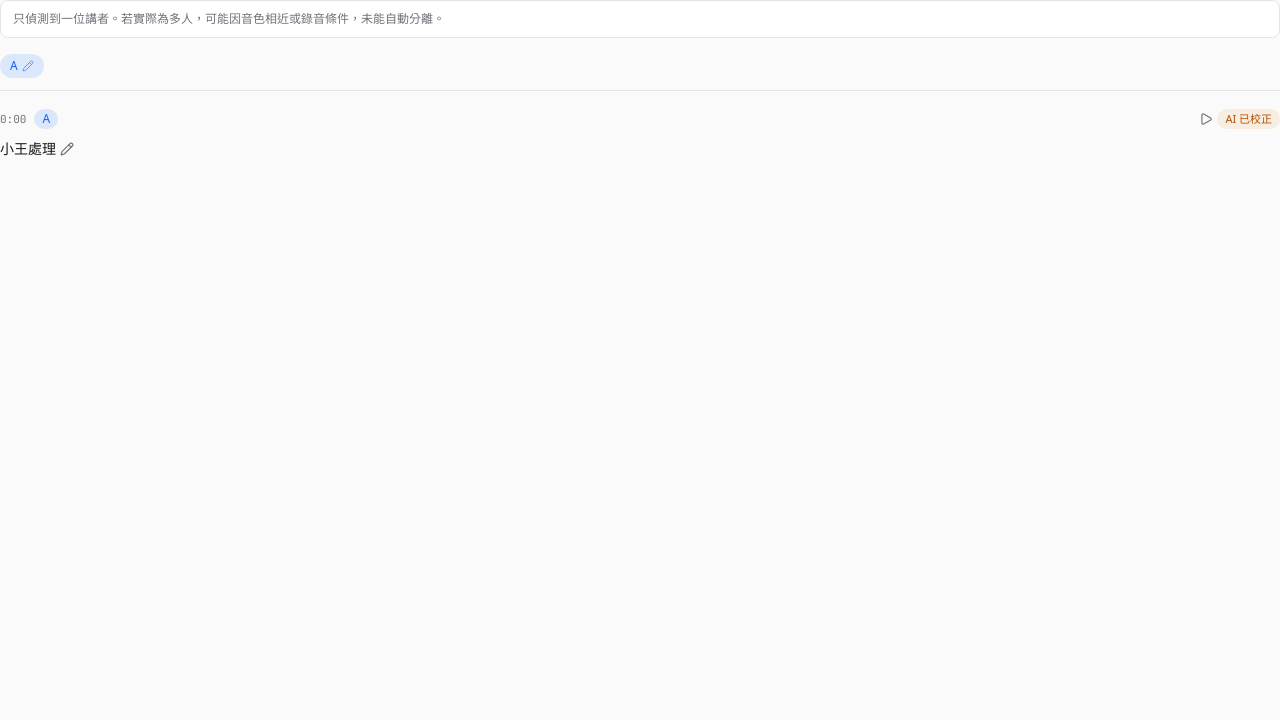
Test: TranscriptEditor AI 校正標籤 › 有 originalText 的段落顯示 AI 已校正，點擊顯示原文
Click the button "AI 已校正" at (1249, 119), box [1217,109,1279,129]
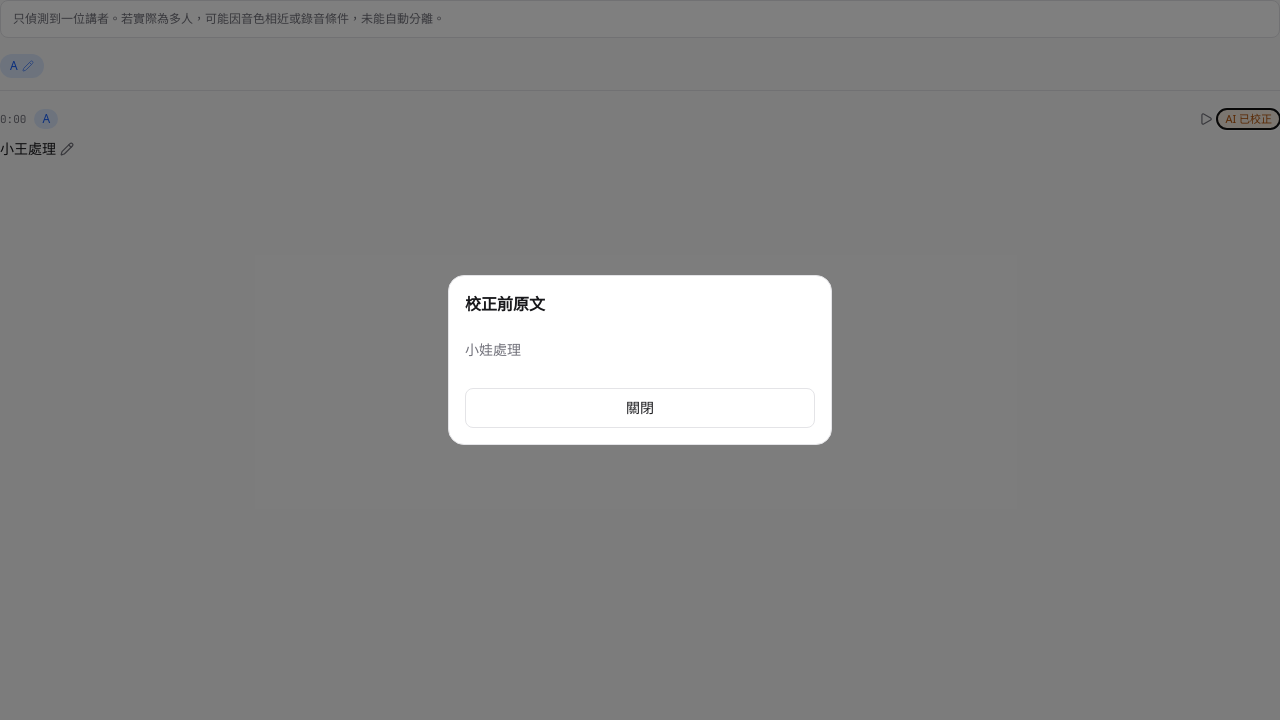
Now the text "小娃處理" is shown, box [465,340,521,359]
